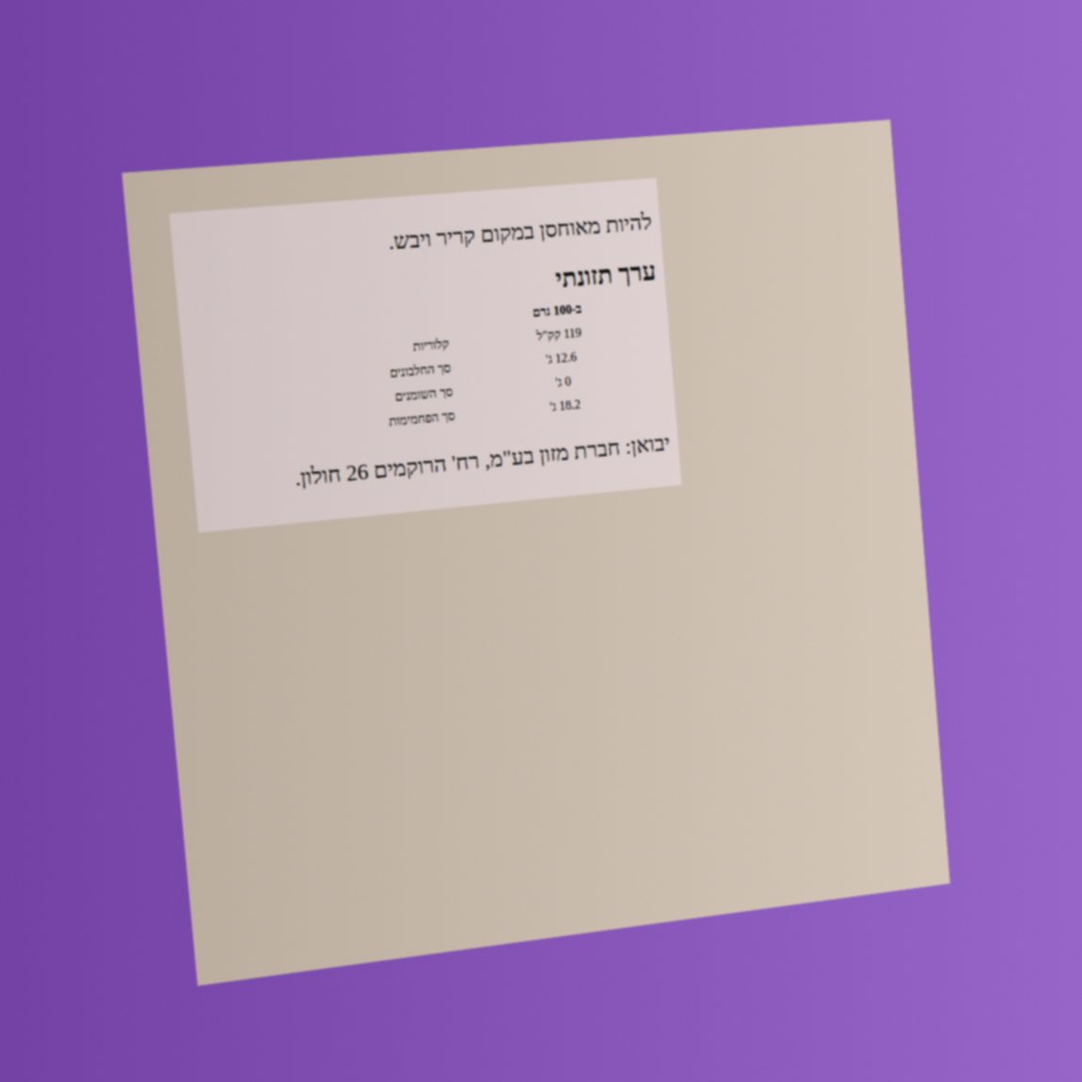carbs: (547, 395, 583, 415)
energy: (534, 323, 584, 345)
fat: (553, 372, 573, 391)
protein: (543, 348, 579, 368)
